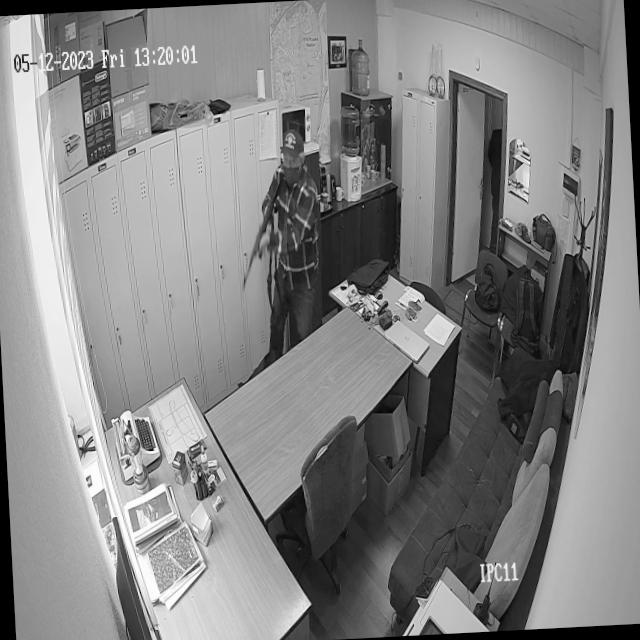gun: (236, 182, 286, 294)
person with a gun: (232, 127, 328, 344)
